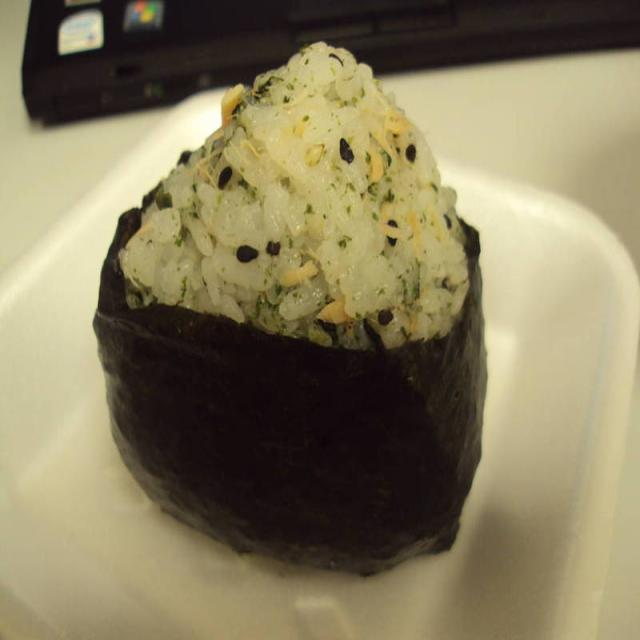米饭主食: (89, 25, 508, 577)
